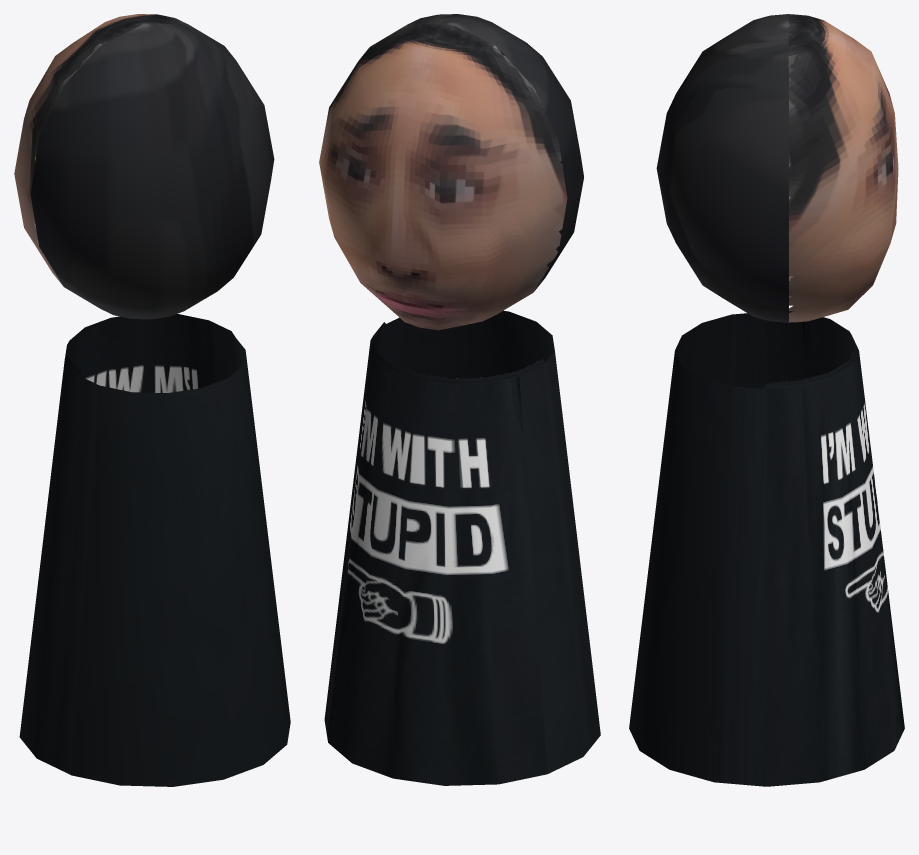
Rendered from amir_mii.fbx.
The picture shows the model from 3 angles, left to right: view 1: azimuth 30°, elevation 25°; view 2: azimuth 150°, elevation 25°; view 3: azimuth 270°, elevation 25°; orthographic projection.
Parts seen in each view (by area): view 1: mii.001; view 2: mii.001; view 3: mii.001.
Boxes of the visible parts, bbox=[...] form: mii.001: bbox=[14, 14, 290, 786]; mii.001: bbox=[319, 14, 600, 785]; mii.001: bbox=[629, 14, 904, 786].
Size of the model in its own units: 50 by 160 by 50.
